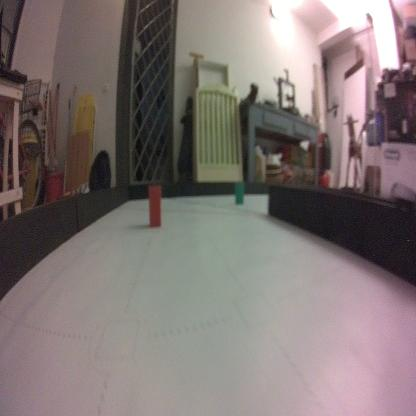green: (234, 180, 245, 206)
red: (148, 182, 161, 226)
